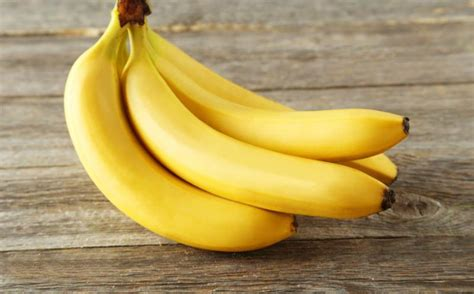banana: (114, 48, 400, 225), (58, 43, 299, 253), (147, 52, 413, 161)
